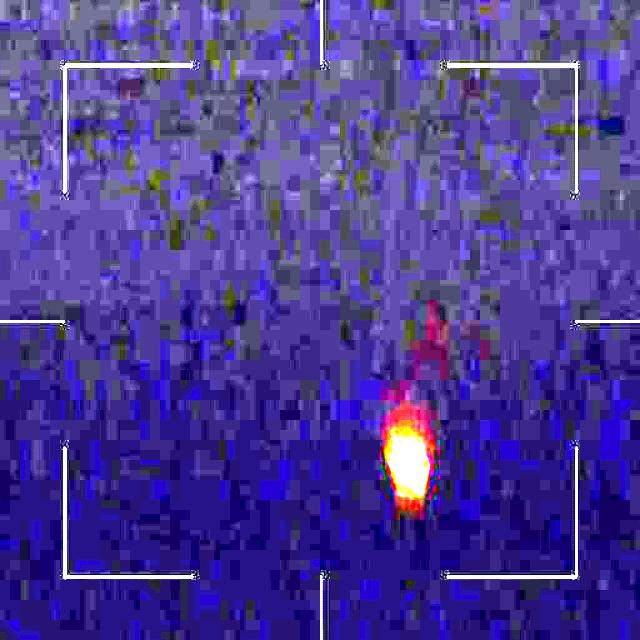bird: (384, 434, 428, 495)
